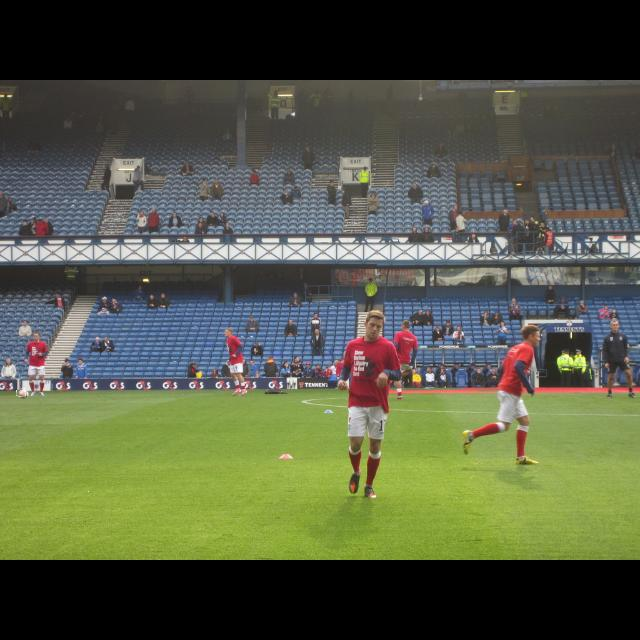Football: (17, 389, 27, 397)
